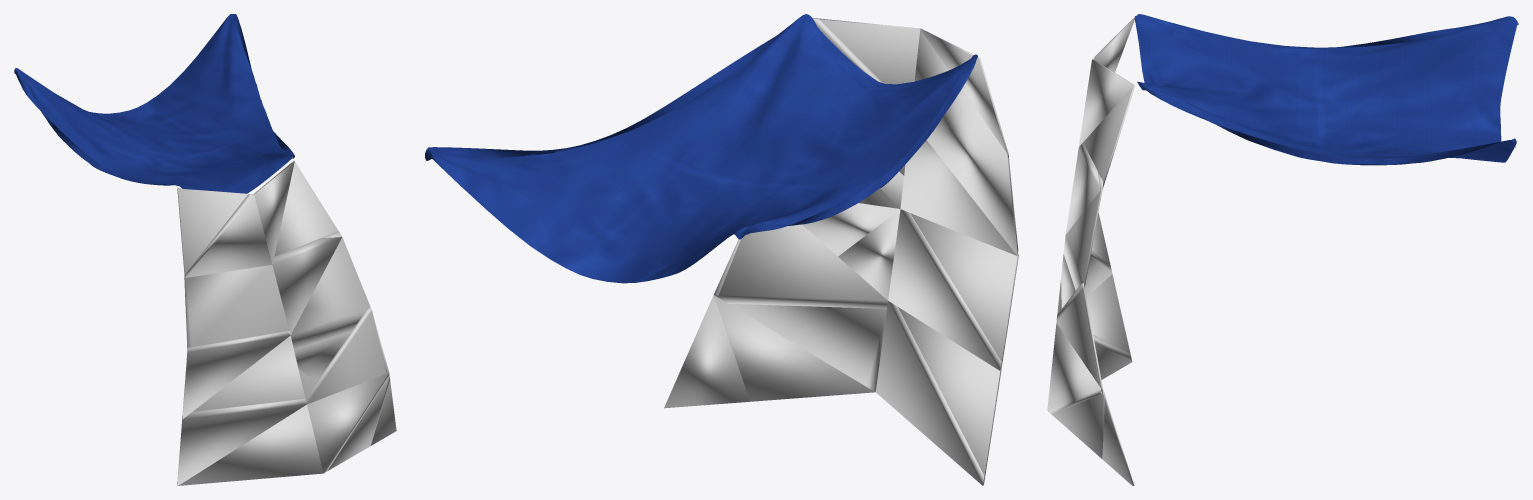
The model's file is SM_Tent.fbx.
3 renders of one model, left to right at view 1: azimuth 30°, elevation 25°; view 2: azimuth 150°, elevation 25°; view 3: azimuth 270°, elevation 25°, orthographic. The views are drawn at different scales.
Parts seen in each view (by area): view 1: SM_Tent_ConvexHulls, SM_Tent; view 2: SM_Tent_ConvexHulls, SM_Tent; view 3: SM_Tent, SM_Tent_ConvexHulls.
Boxes of the visible parts, bbox=[...] form: SM_Tent_ConvexHulls: bbox=[177, 161, 396, 485]; SM_Tent: bbox=[14, 14, 294, 193]; SM_Tent_ConvexHulls: bbox=[664, 18, 1018, 485]; SM_Tent: bbox=[425, 14, 977, 283]; SM_Tent: bbox=[1134, 14, 1518, 165]; SM_Tent_ConvexHulls: bbox=[1047, 18, 1135, 485].
Size of the model in its own units: 4 by 4.97 by 6.09.
